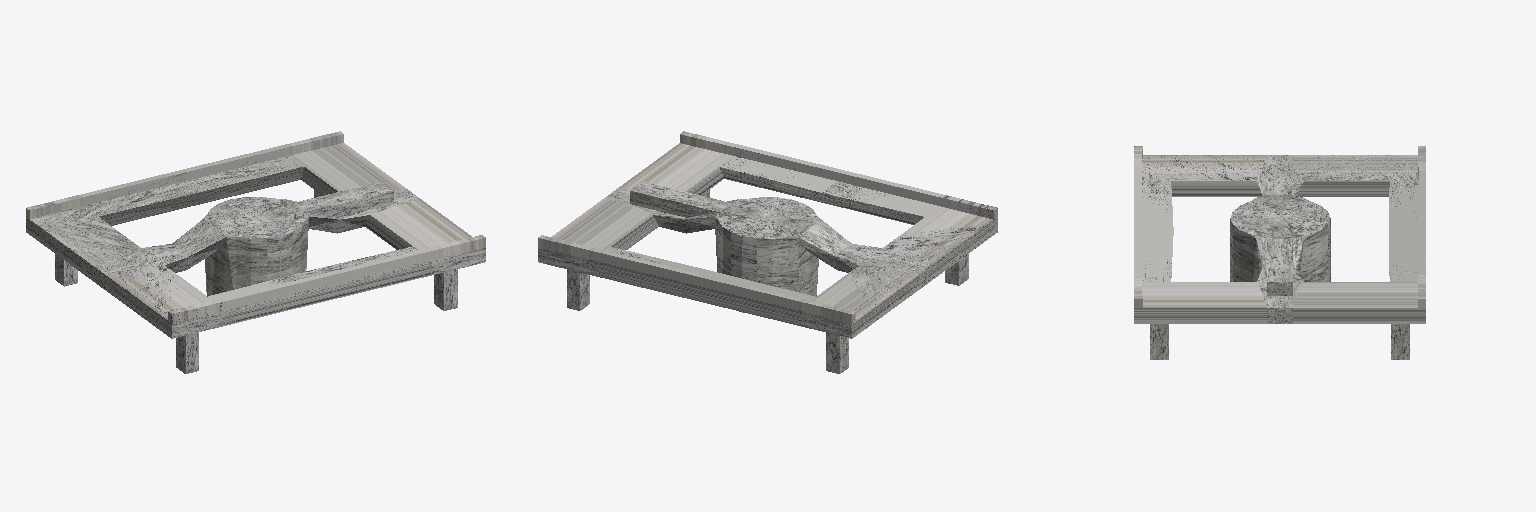
The picture shows the model from 3 angles: view 1: azimuth 30°, elevation 25°; view 2: azimuth 150°, elevation 25°; view 3: azimuth 270°, elevation 25°; orthographic projection.
Visible parts, largest first — view 1: transform9, transform3, transform4, transform2, transform1, transform6; view 2: transform4, transform3, transform9, transform2, transform1, polySurface3, transform5; view 3: transform3, transform4, transform9, transform1, transform2, transform8, transform7.
Part boxes in pixels (x1,y1,x2,y2): transform9: (26,145,431,337); transform3: (183,131,485,299); transform4: (26,170,328,338); transform2: (292,182,393,217); transform1: (232,197,304,277); transform6: (176,332,198,373); transform4: (695,170,997,338); transform3: (538,131,840,299); transform9: (592,145,997,336); transform2: (630,182,731,217); transform1: (718,197,791,275); polySurface3: (567,190,839,373); transform5: (826,333,848,373); transform3: (1134,223,1425,323); transform4: (1134,146,1425,281); transform9: (1134,146,1425,281); transform1: (1231,218,1329,281); transform2: (1267,239,1292,295); transform8: (1150,324,1168,359); transform7: (1391,324,1409,359).
Bounding box in the file's own units: 26.38 × 6.13 × 21.19.
Materials: 1 (1 with a texture image).